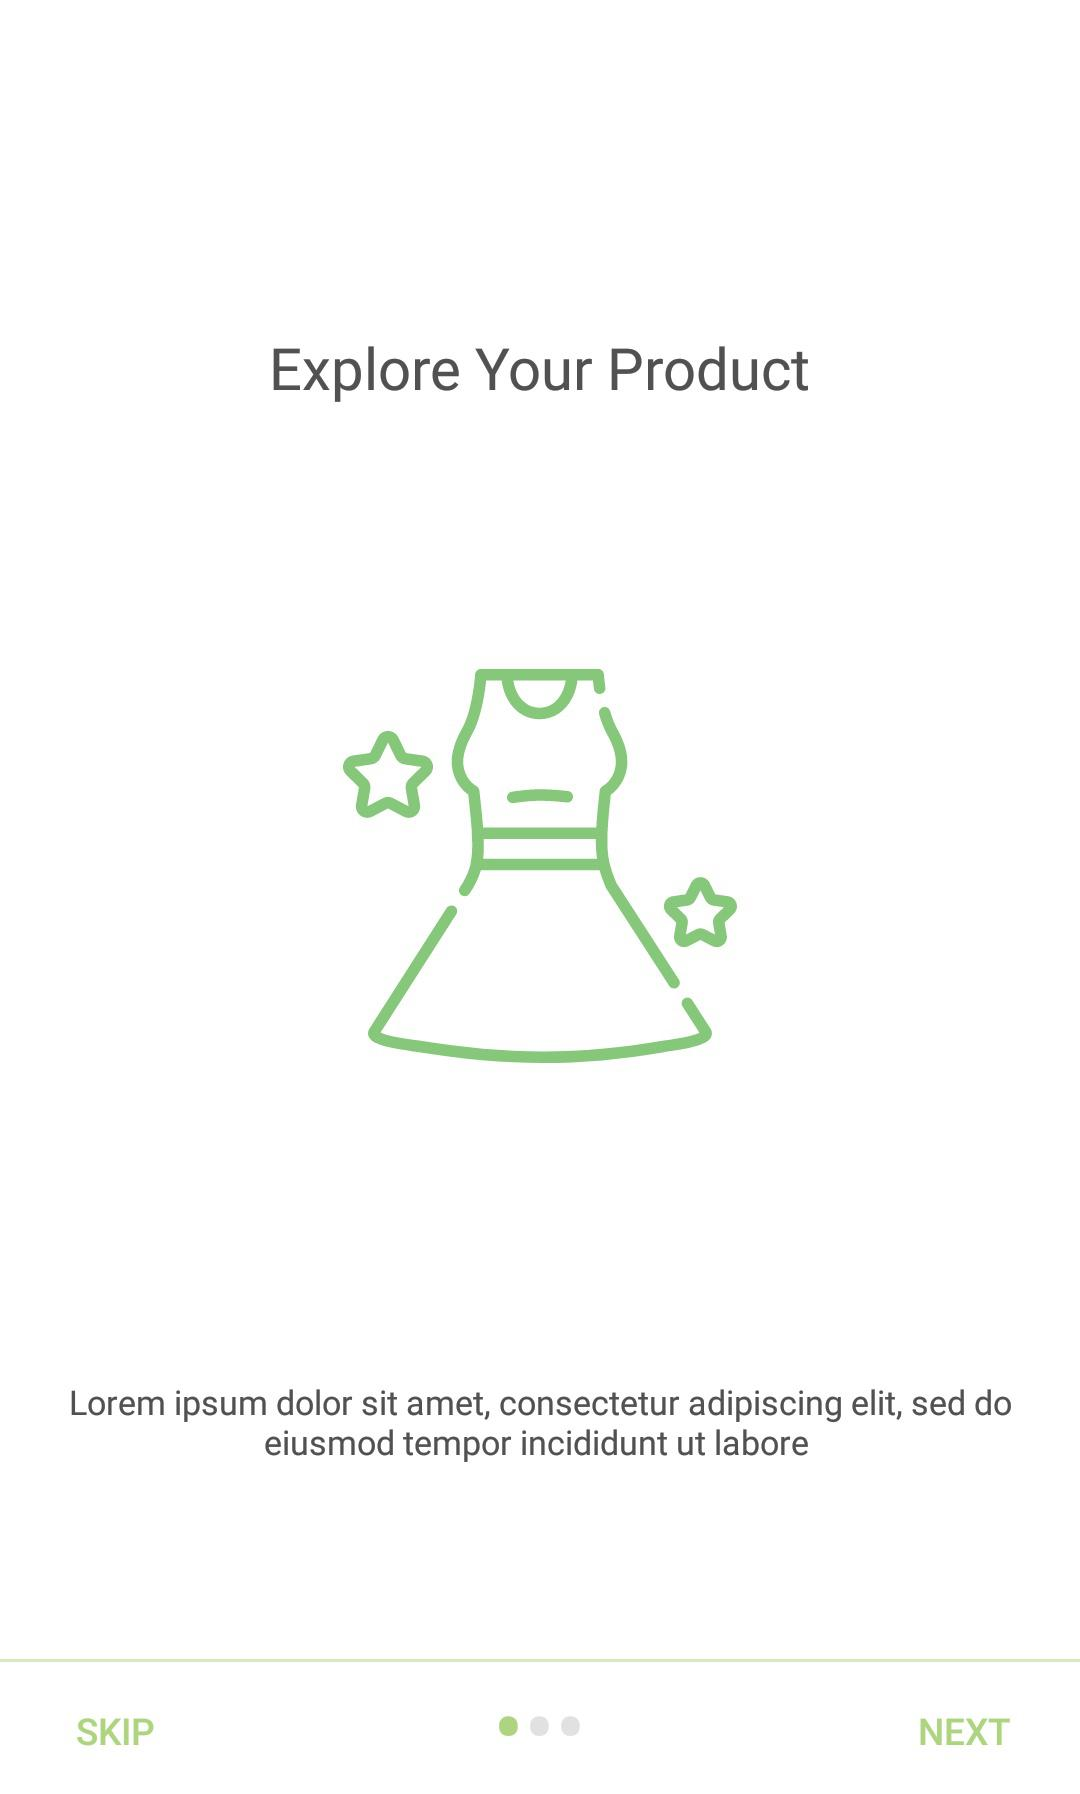Image: (343, 668, 738, 1064)
PageIndicator: (498, 1715, 582, 1738)
Text: (70, 1388, 1012, 1463), (273, 346, 808, 404), (919, 1717, 1011, 1747), (77, 1717, 155, 1747)
